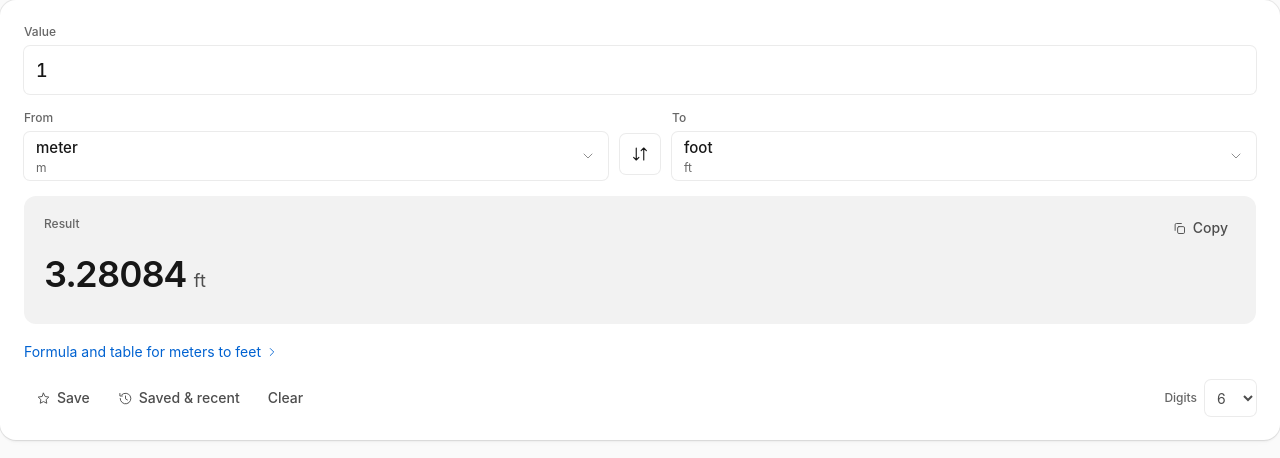
it: converter workflow › clears the value with the Clear button
Click the button "Clear" at (285, 398), box [256,382,315,414]
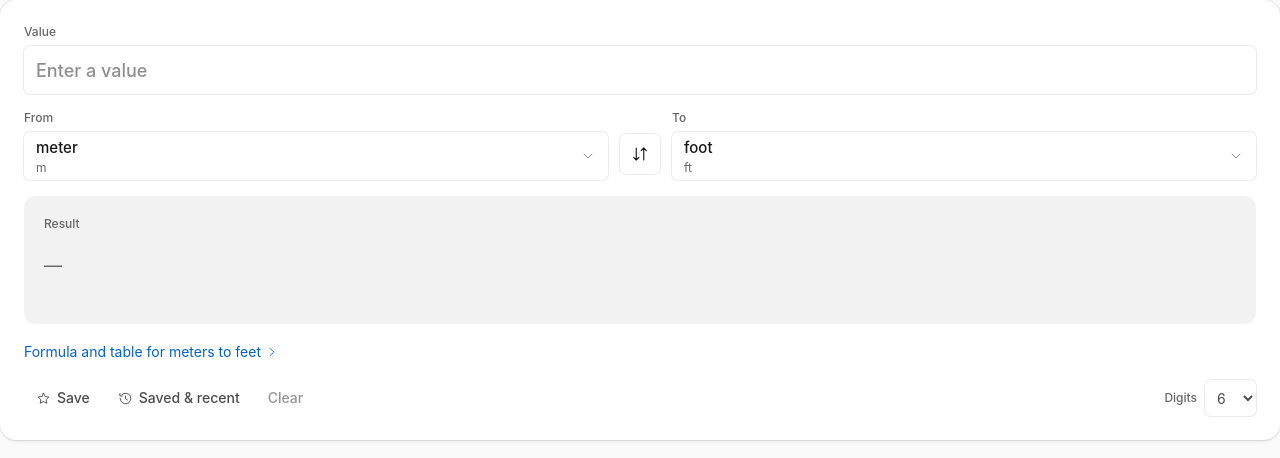
Expected: the field named "Value in" is empty, [24,46,1256,94]
